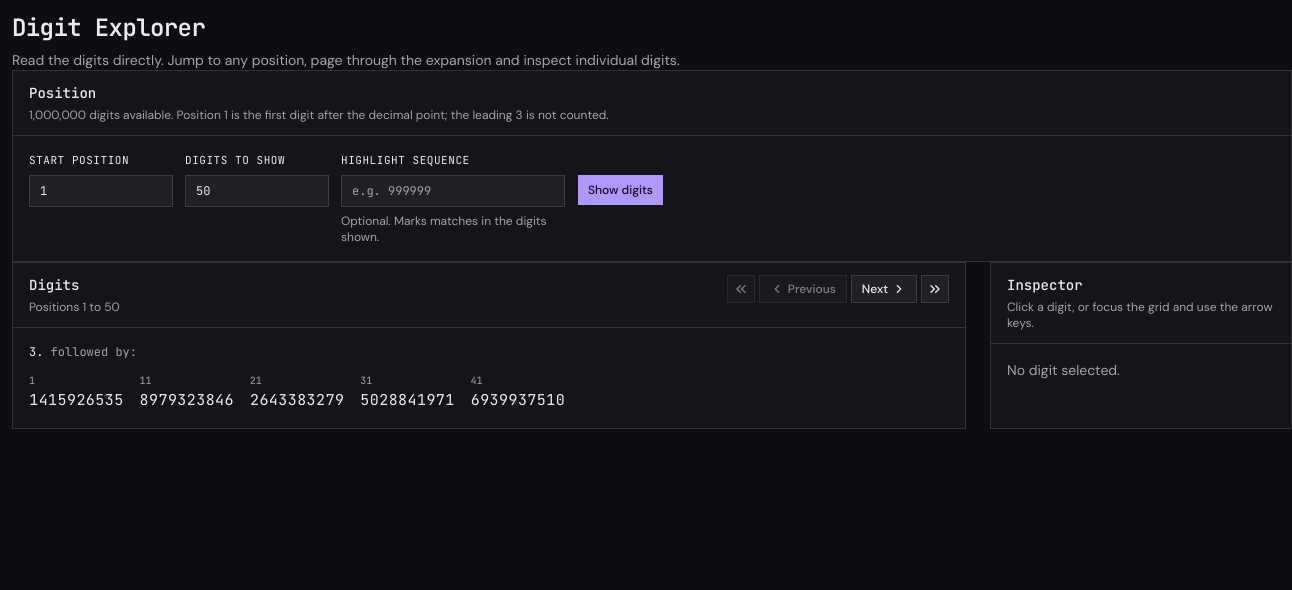
Scenario: ExplorerView › inspects a clicked digit
The width and height of the screenshot is (1292, 590).
Click the 1st text "2".
click(81, 400)  # box [76,388,86,412]
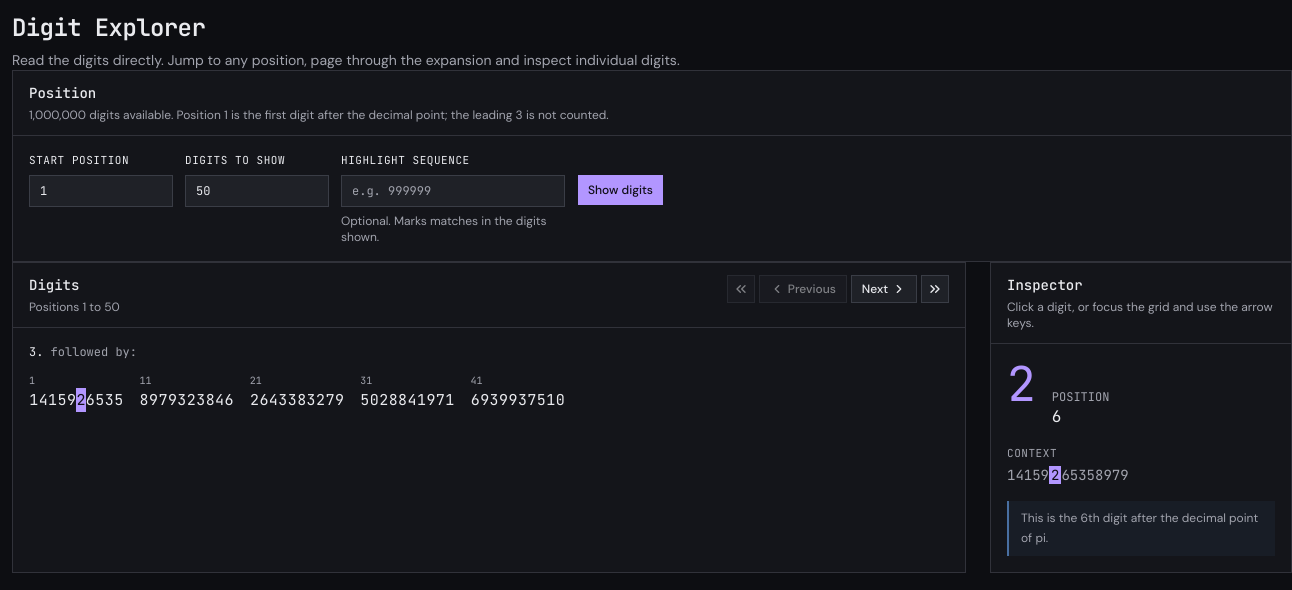
Now the text with test id "inspector-position" reads "6", box [1052,406,1061,426]
Now the text "This is the 6th digit after the decimal point of pi." is shown, box [1007,501,1275,556]
